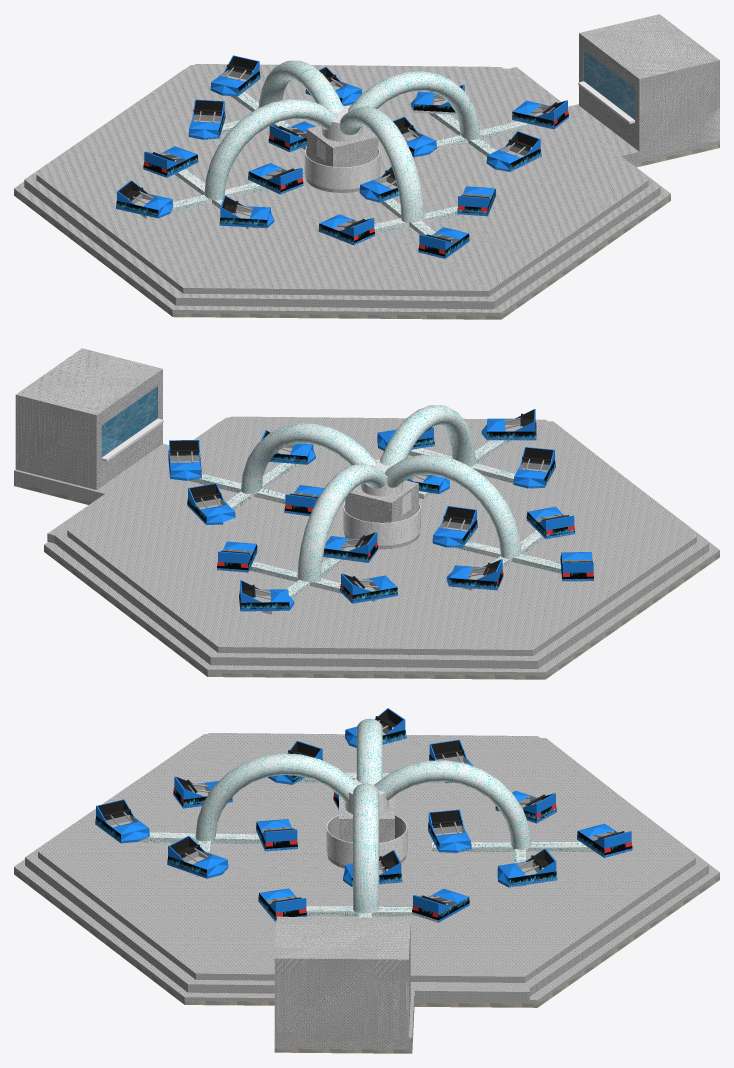
3 renders of one model, top to bottom at view 1: azimuth 30°, elevation 25°; view 2: azimuth 150°, elevation 25°; view 3: azimuth 270°, elevation 25°, orthographic. The views are drawn at different scales.
Parts seen in each view (by area): view 1: Komponente_1 (×29); view 2: Komponente_1 (×28); view 3: Komponente_1 (×22).
Part boxes in pixels (x1,y1,x2,y2): Komponente_1 (×29): [14, 14, 719, 319]; Komponente_1 (×28): [14, 348, 719, 679]; Komponente_1 (×22): [14, 718, 719, 1053].
Bounding box in the file's own units: 712 × 692 × 131.
Materials: 14 (5 with a texture image).
